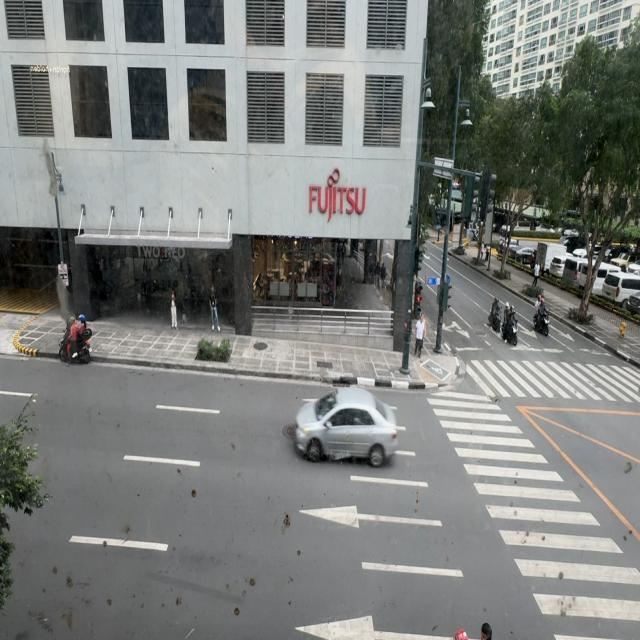waiting: (413, 311, 428, 369), (414, 310, 426, 356)
